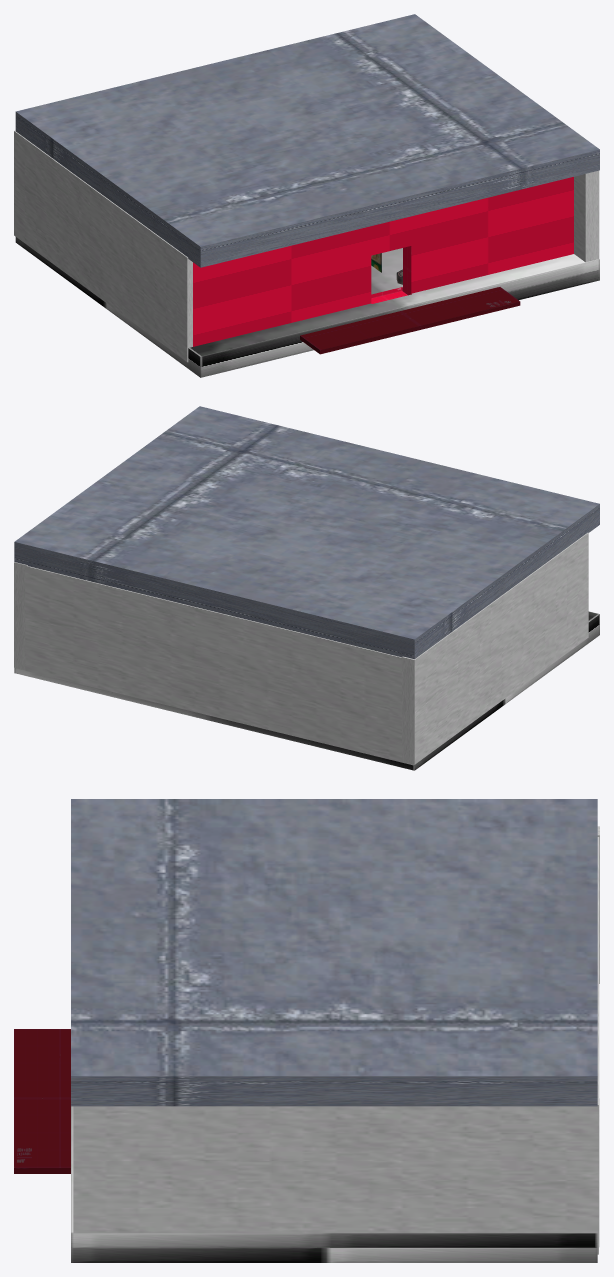
File: lojinha.gltf
3 views of the same model, one above another, from view 1: azimuth 30°, elevation 25°; view 2: azimuth 150°, elevation 25°; view 3: azimuth 270°, elevation 25° (orthographic). The views are drawn at different scales.
Visible parts, largest first — view 1: CSGCombiner3D2; view 2: CSGCombiner3D2; view 3: CSGCombiner3D2.
Boxes of the visible parts, x1,y1,x2,y2 form: CSGCombiner3D2: (14,14,599,377); CSGCombiner3D2: (14,406,599,770); CSGCombiner3D2: (14,799,599,1262).
Size of the model in its own units: 20.04 by 7.06 by 17.85.
13 materials, 13 textured.
